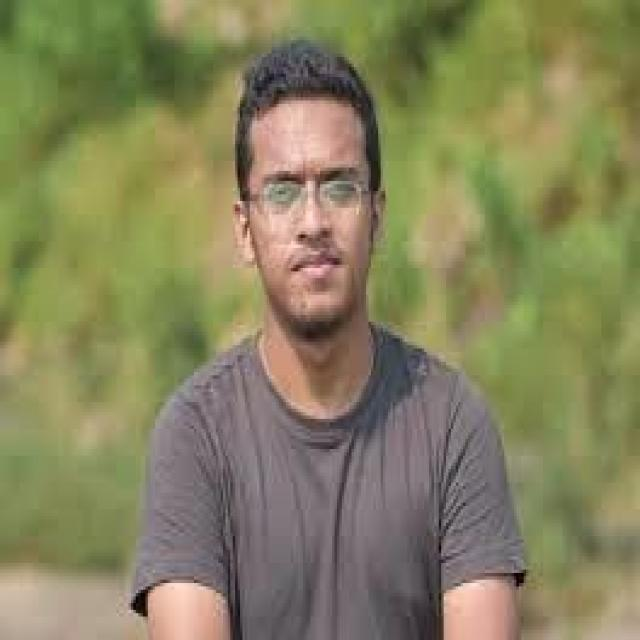person: (114, 34, 533, 634)
